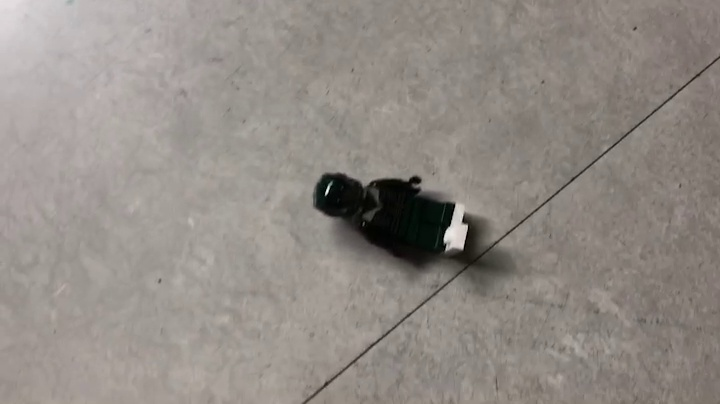people: (311, 171, 487, 265)
